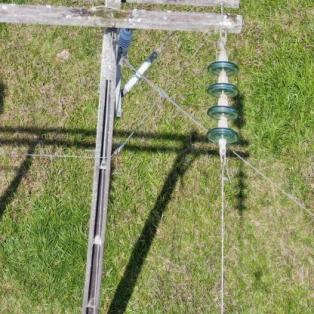Poste: (63, 0, 136, 314)
